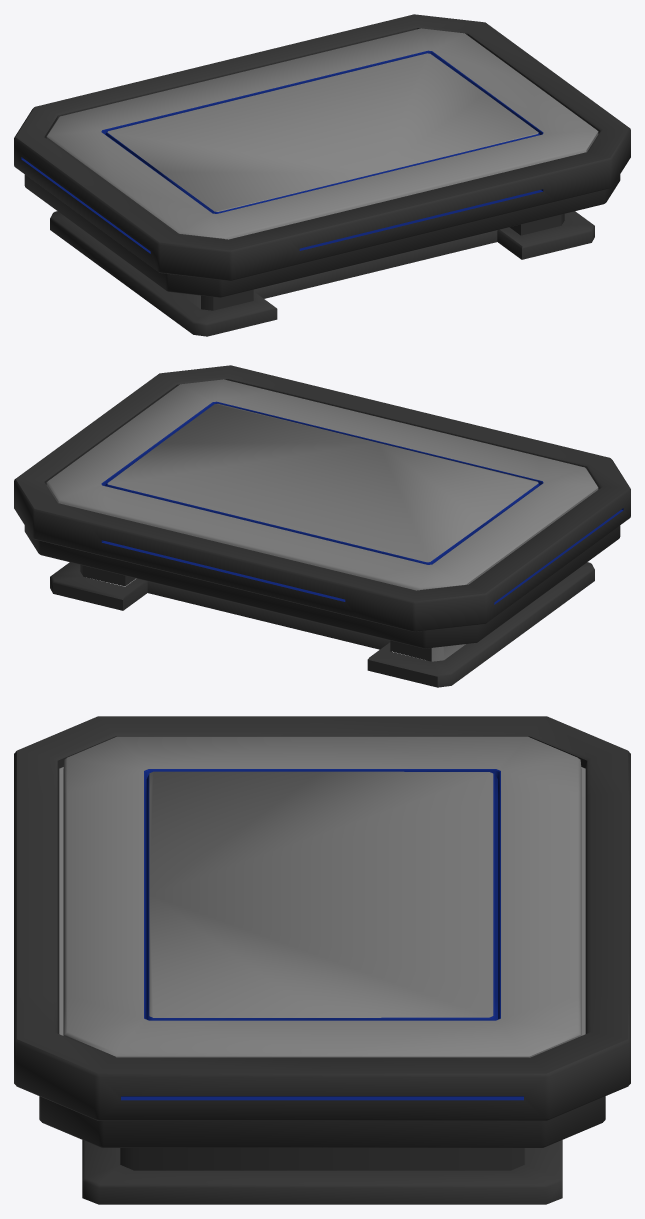
The model's file is ML_table.fbx.
3 views of the same model, one above another, from view 1: azimuth 30°, elevation 25°; view 2: azimuth 150°, elevation 25°; view 3: azimuth 270°, elevation 25° (orthographic). The views are drawn at different scales.
Parts seen in each view (by area): view 1: ML_table; view 2: ML_table; view 3: ML_table.
Boxes of the visible parts, bbox=[...] form: ML_table: bbox=[14, 14, 630, 336]; ML_table: bbox=[14, 365, 630, 687]; ML_table: bbox=[14, 716, 630, 1204].
Size of the model in its own units: 515 by 105 by 373.
